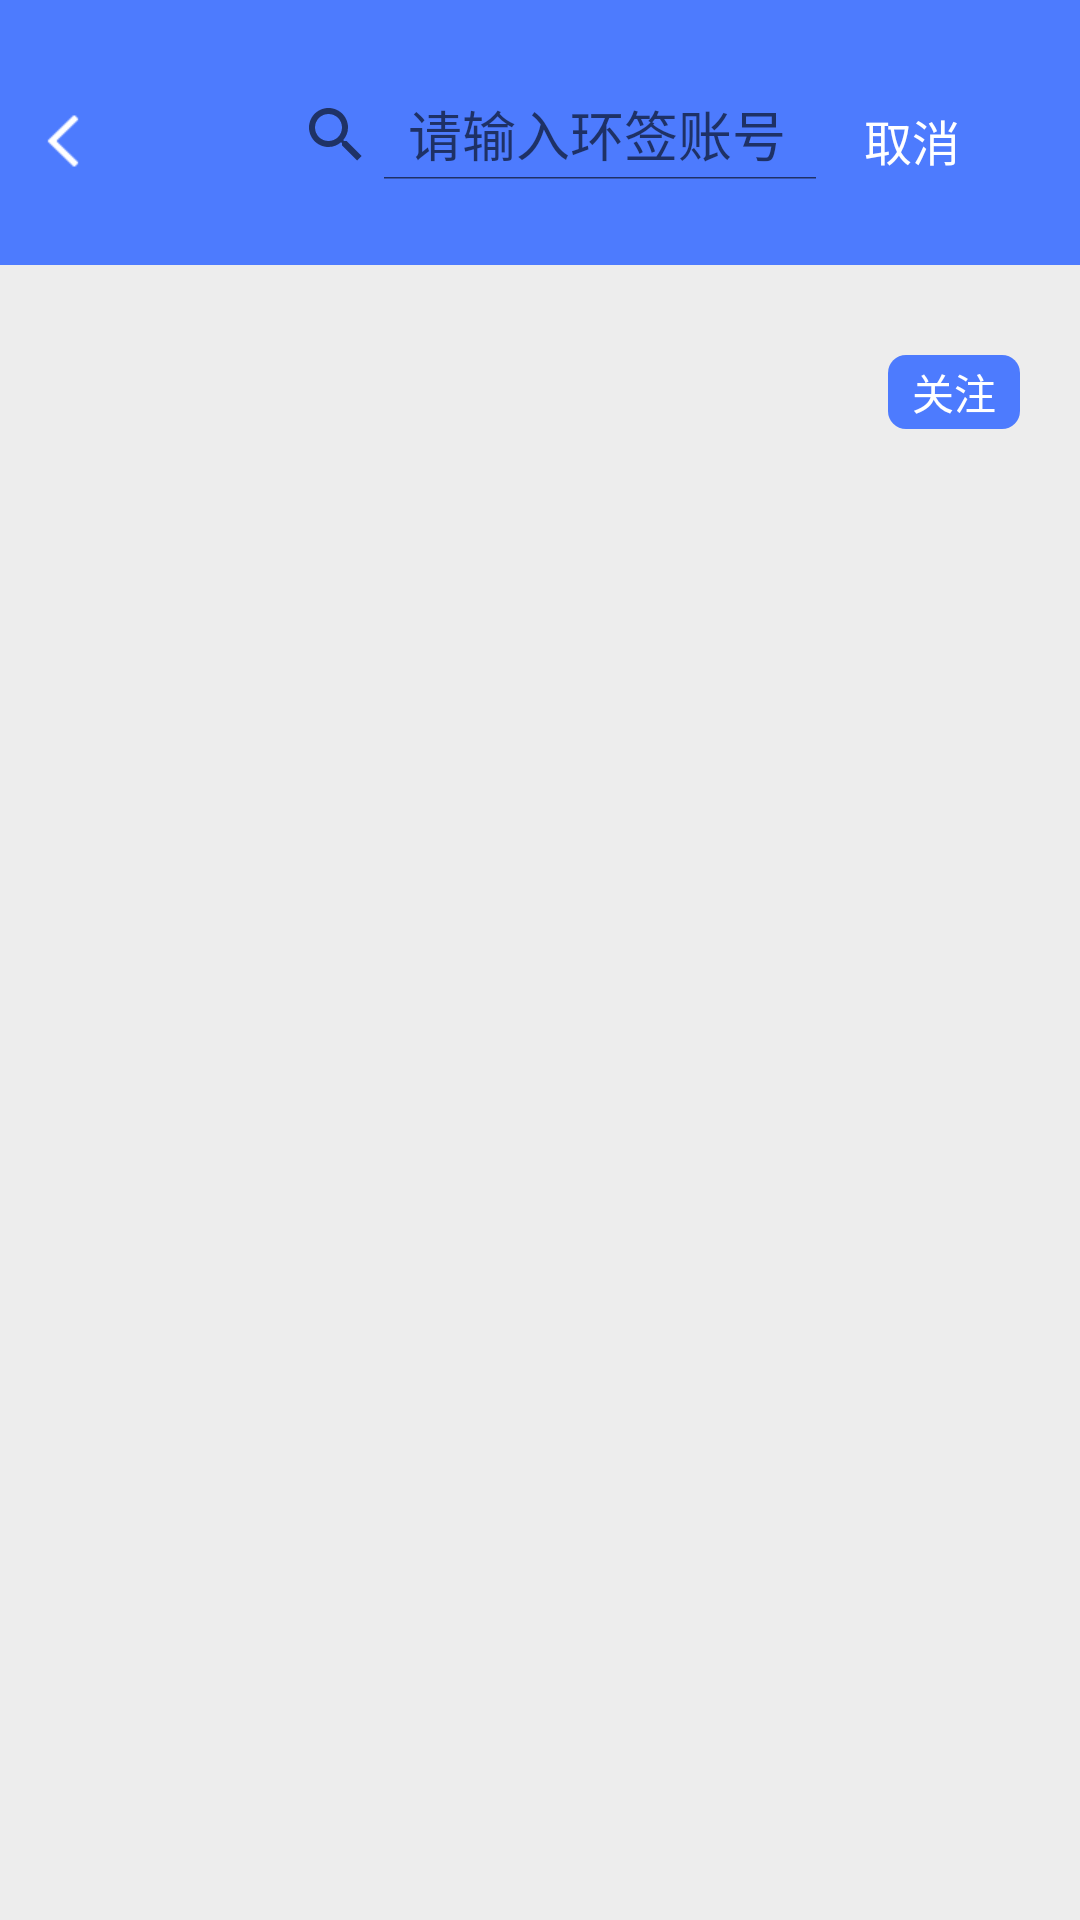

Icon bounding boxes for this 1080w x 1920h phone screenshot, format (x1, y1, x2, y2):
back: (48, 115, 79, 167)
